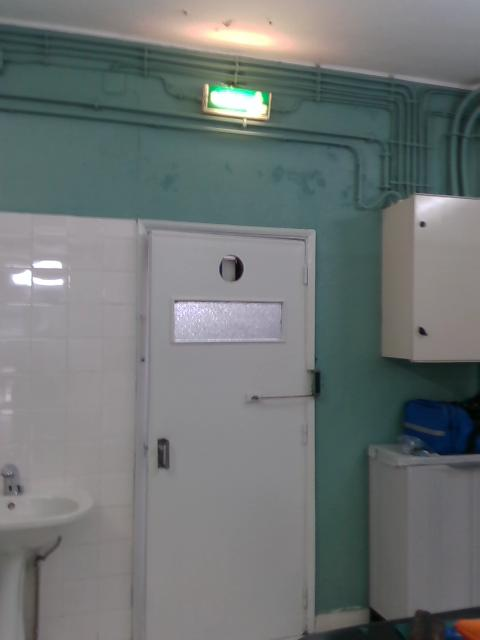door: (149, 231, 305, 640)
